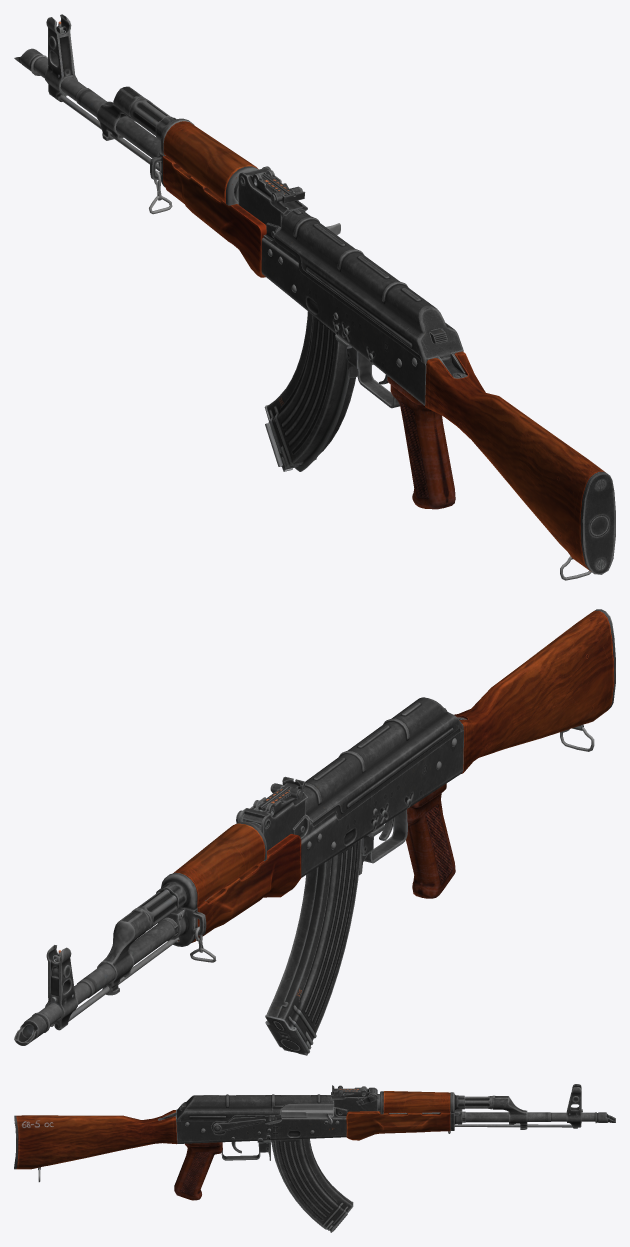
The picture shows the model from 3 angles, top to bottom: view 1: azimuth 30°, elevation 25°; view 2: azimuth 150°, elevation 25°; view 3: azimuth 270°, elevation 25°; orthographic projection. The views are drawn at different scales.
Visible parts, largest first — view 1: body, mag; view 2: body, mag; view 3: body, mag, bolt.
Part boxes in pixels (x1,y1,x2,y2): body: (14,14,615,580); mag: (264,311,355,471); body: (14,609,615,1045); mag: (265,839,361,1055); body: (14,1084,615,1200); mag: (271,1138,353,1232); bolt: (281,1102,333,1124).
Size of what is drawn, in the model's own units: 0.0684 by 0.2304 by 0.87.
2 materials, 2 textured.
